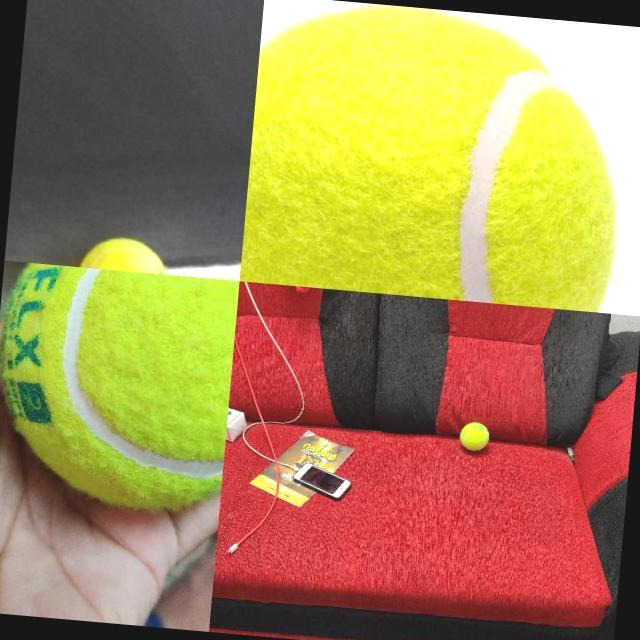tennis-ball: (239, 0, 636, 312), (0, 260, 238, 512), (76, 232, 170, 274), (458, 420, 490, 452)
